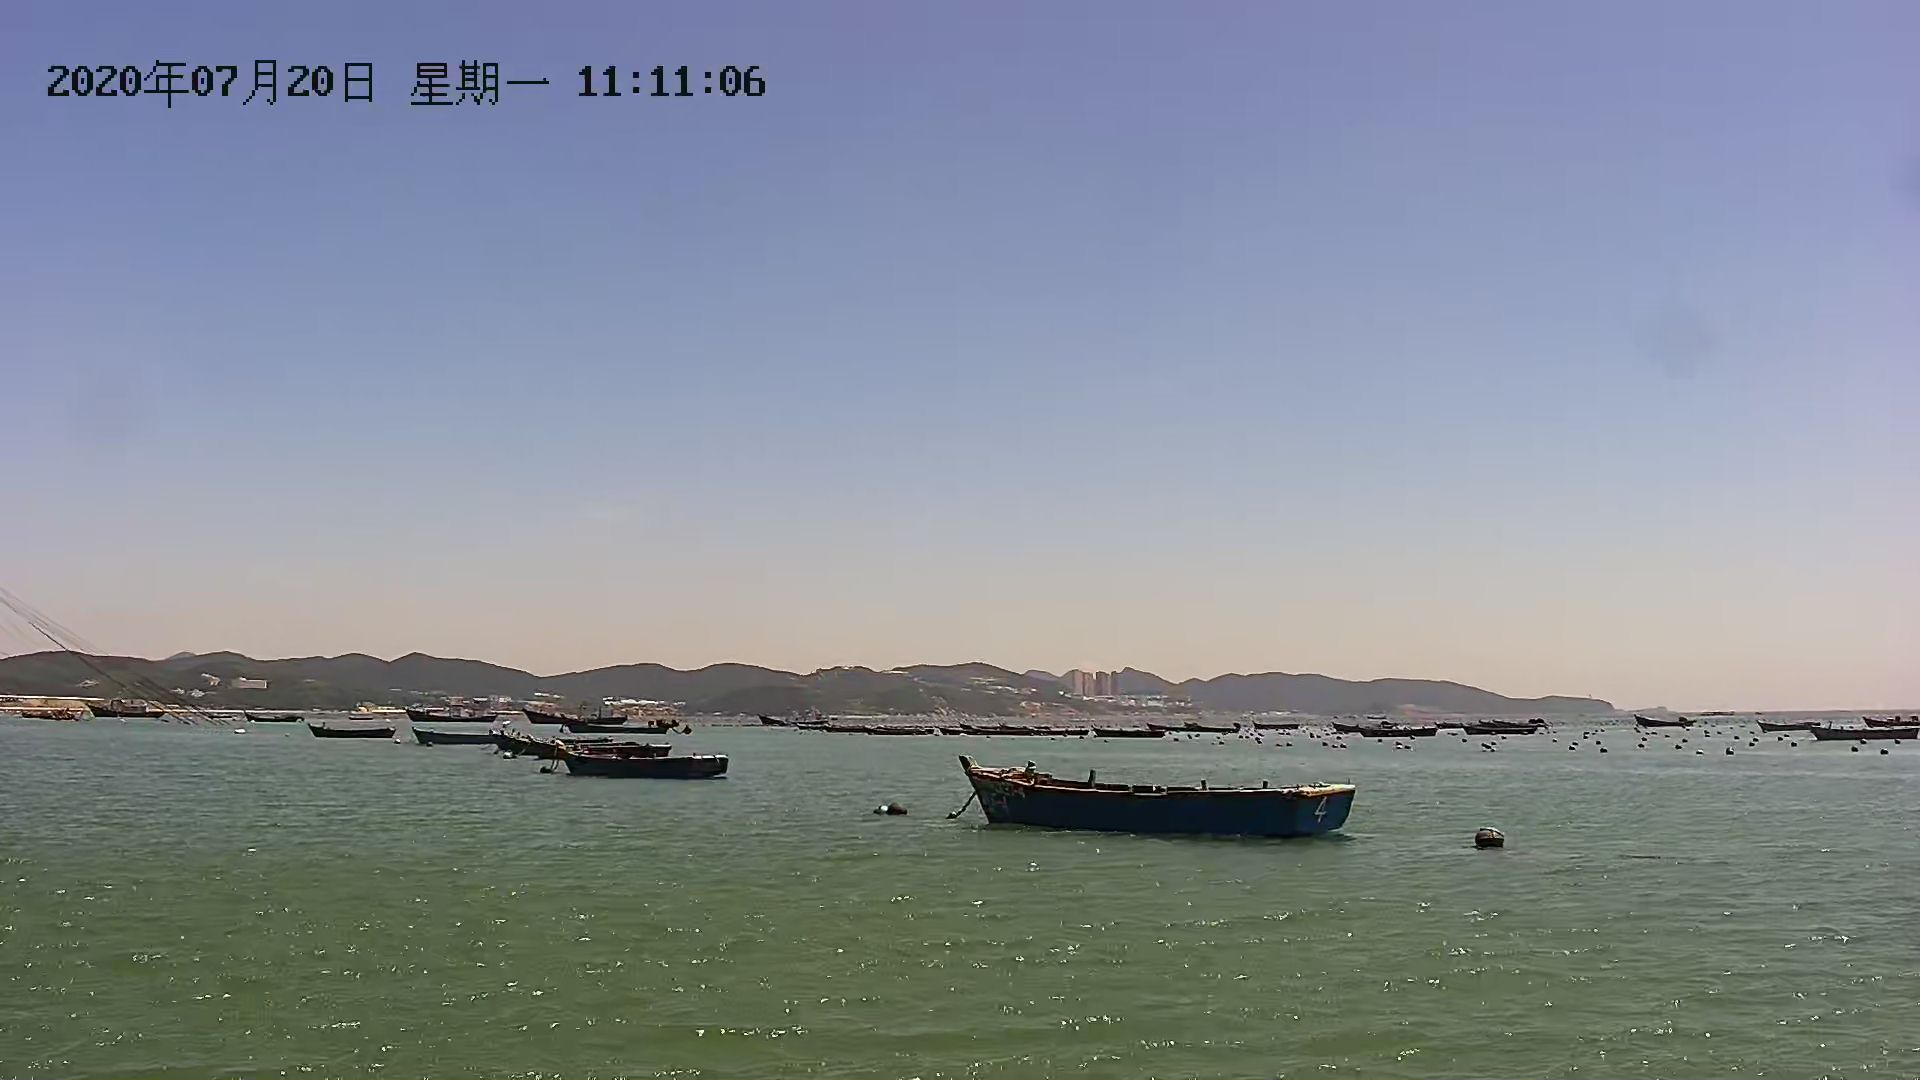ball: (1469, 819, 1510, 851), (869, 798, 909, 823)
boat: (953, 758, 1364, 839), (549, 742, 746, 778), (484, 720, 622, 756), (407, 721, 514, 742), (305, 721, 400, 742)
